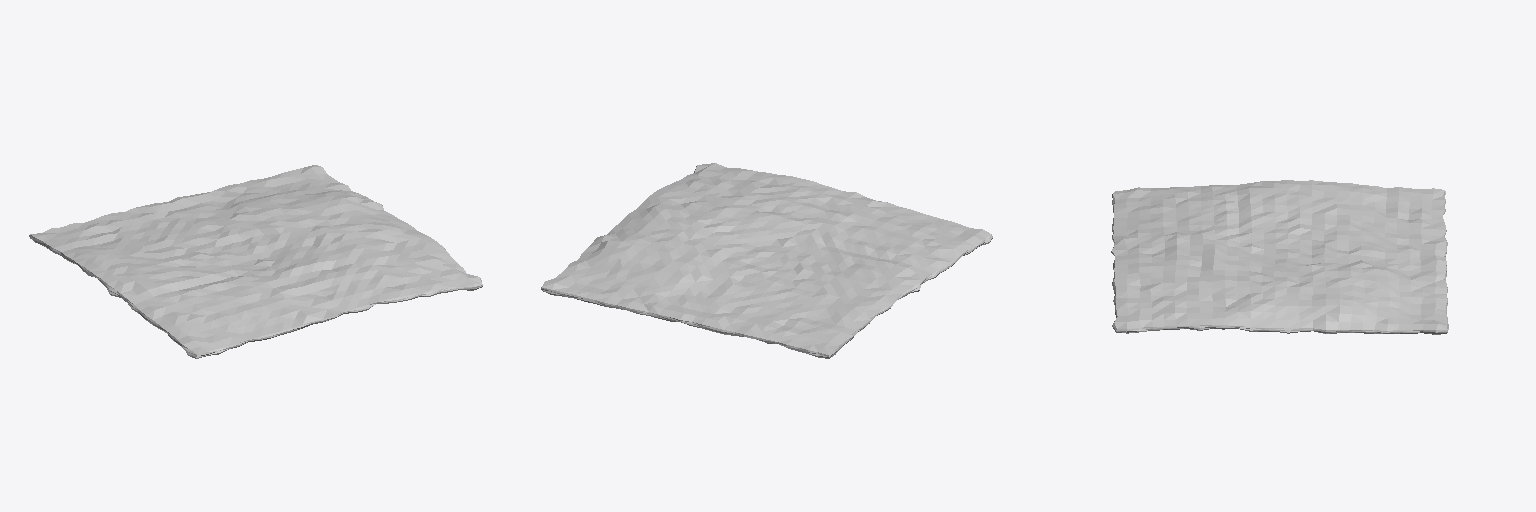
Rendered from chao.obj.
The picture shows the model from 3 angles: view 1: azimuth 30°, elevation 25°; view 2: azimuth 150°, elevation 25°; view 3: azimuth 270°, elevation 25°; orthographic projection.
Visible parts, largest first — view 1: Plane; view 2: Plane; view 3: Plane.
Part boxes in pixels (x1,y1,x2,y2): Plane: (29,165,482,358); Plane: (541,163,992,358); Plane: (1111,180,1448,334).
Bounding box in the file's own units: 26.27 × 1.79 × 25.77.